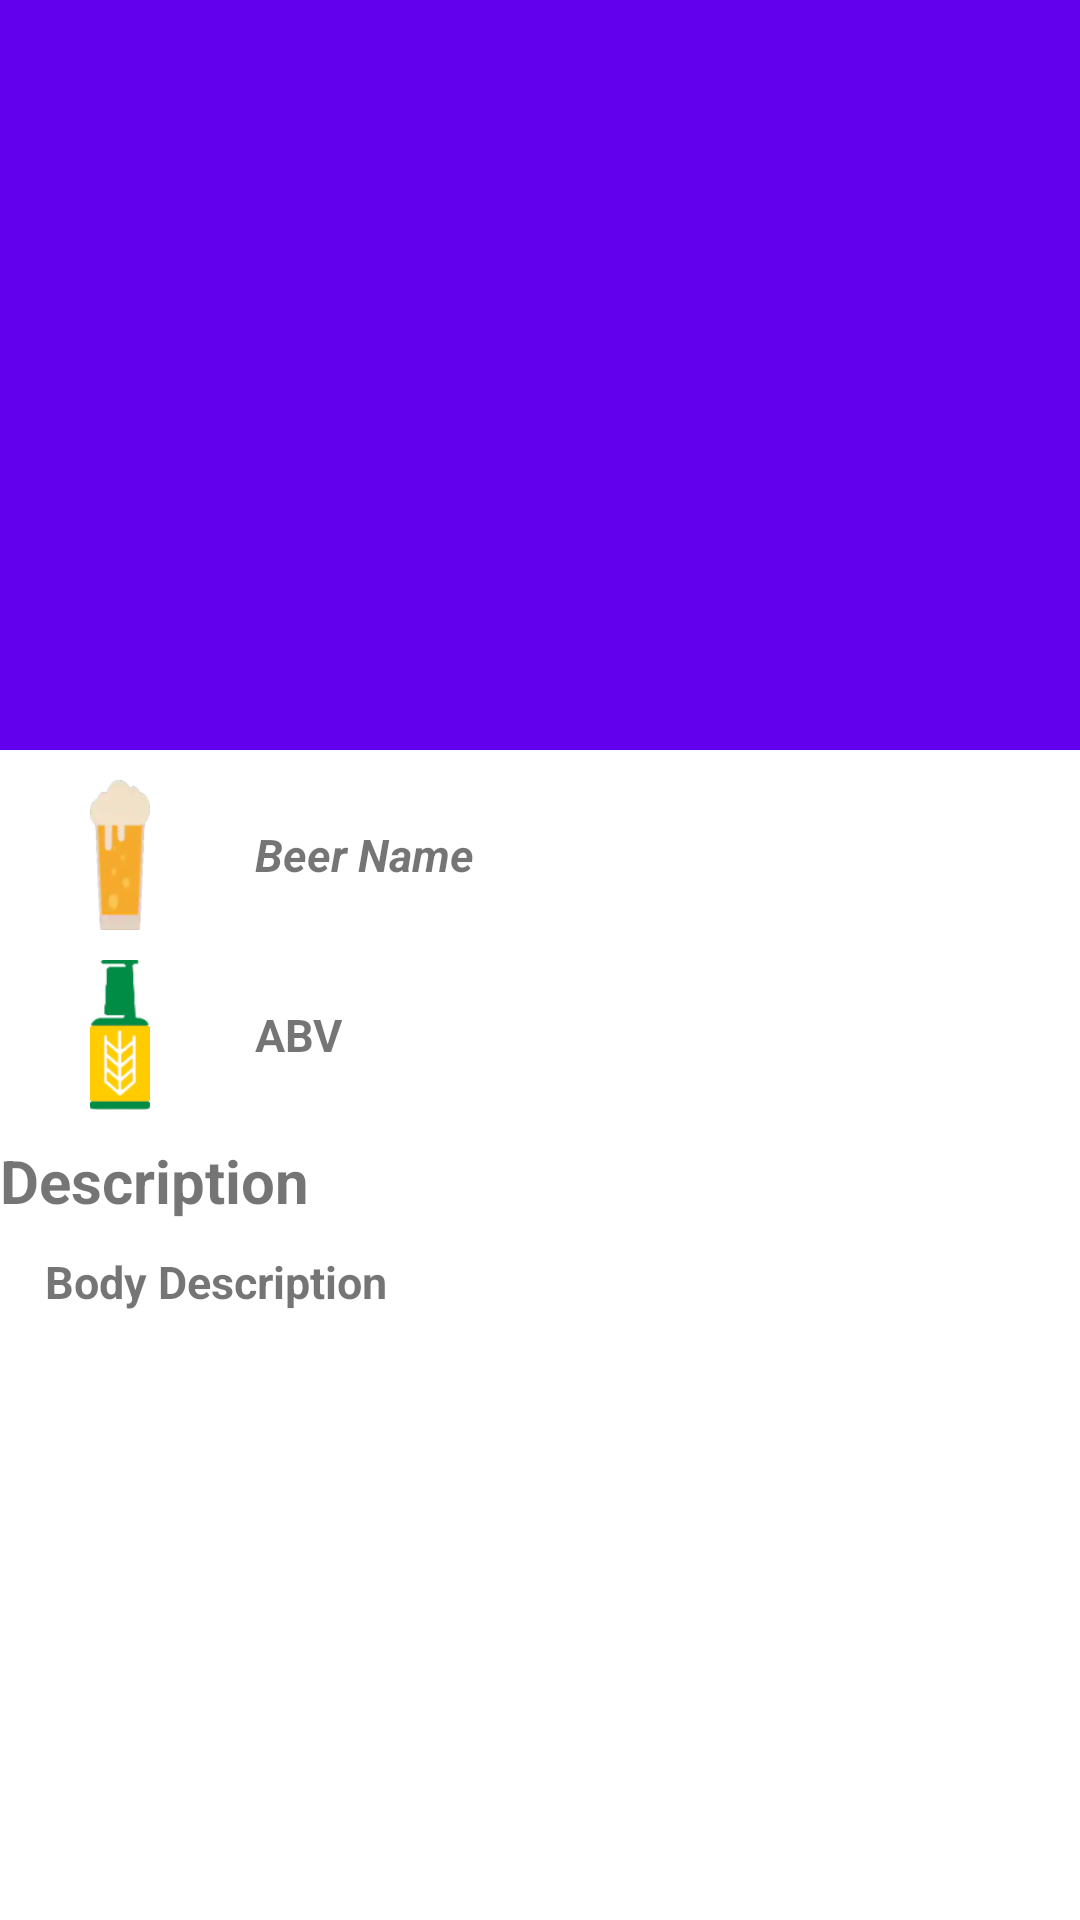

Named icons in this screenshot (1080x1920) and their centers, (x,y):
This is a ABV Beer Image: (120,1035)
This is a Generic Beer Image: (120,855)
